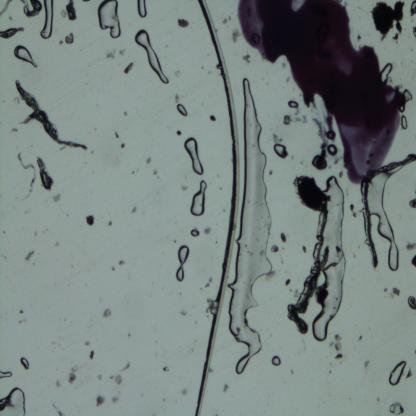Air bubble: (228, 65, 274, 377), (312, 175, 346, 342), (372, 176, 400, 271), (135, 29, 170, 85), (97, 1, 122, 39), (184, 136, 204, 176), (0, 386, 27, 415), (39, 0, 56, 39), (190, 178, 206, 216), (175, 244, 190, 282), (388, 361, 407, 385), (380, 63, 393, 84), (274, 143, 290, 159), (136, 0, 148, 19), (176, 103, 189, 118), (20, 356, 30, 370), (327, 142, 337, 156), (271, 355, 282, 366), (288, 99, 300, 109), (0, 370, 13, 379), (401, 114, 408, 130), (190, 228, 200, 238)
Background material: (370, 0, 406, 42), (292, 175, 329, 215), (310, 117, 329, 171), (36, 156, 56, 189), (13, 44, 38, 68), (60, 0, 78, 21), (329, 334, 343, 361), (389, 400, 405, 416), (293, 108, 309, 124), (204, 297, 218, 315), (46, 403, 64, 416), (67, 365, 79, 384), (95, 392, 107, 408), (176, 16, 190, 29), (220, 12, 233, 26), (19, 306, 29, 324), (362, 358, 374, 373), (83, 213, 96, 226), (231, 28, 241, 44), (170, 90, 180, 105), (150, 167, 162, 179), (64, 32, 75, 45), (173, 64, 183, 78), (241, 52, 251, 66), (407, 295, 416, 310), (121, 361, 132, 373), (105, 46, 116, 58), (123, 62, 134, 74), (283, 113, 294, 124), (405, 240, 416, 251), (102, 307, 112, 319), (272, 130, 280, 144), (409, 0, 416, 16), (24, 250, 35, 260), (50, 238, 61, 248), (392, 286, 401, 298), (176, 182, 188, 191), (221, 382, 230, 394), (114, 372, 122, 385), (52, 378, 62, 388), (405, 366, 412, 380), (205, 277, 213, 289), (131, 202, 139, 214), (349, 203, 355, 218), (408, 197, 416, 208), (89, 349, 96, 361), (52, 193, 61, 202), (94, 372, 102, 382), (113, 129, 121, 139), (411, 253, 416, 269), (280, 231, 286, 244), (270, 246, 279, 254), (338, 171, 346, 180), (83, 340, 92, 348), (411, 25, 416, 39), (121, 107, 128, 117), (145, 156, 152, 166), (301, 243, 307, 254), (356, 335, 364, 343), (112, 396, 120, 404), (118, 258, 126, 266), (266, 169, 274, 177), (381, 283, 388, 292), (204, 226, 211, 235), (56, 38, 63, 46), (163, 365, 170, 373), (181, 387, 188, 395), (180, 309, 188, 316), (209, 115, 217, 122), (120, 141, 126, 150), (130, 168, 136, 177), (335, 160, 342, 167), (110, 266, 116, 274), (284, 278, 290, 286), (176, 129, 182, 137), (126, 332, 132, 340), (10, 128, 18, 133), (121, 48, 126, 55), (108, 220, 112, 228), (354, 251, 357, 259)
Cellulose filter fibre: (284, 193, 334, 337), (362, 152, 416, 270), (13, 78, 90, 155), (14, 150, 36, 198), (0, 0, 42, 19), (0, 24, 25, 40)
Hair: (195, 1, 240, 415)
Pen: (239, 0, 416, 185)
